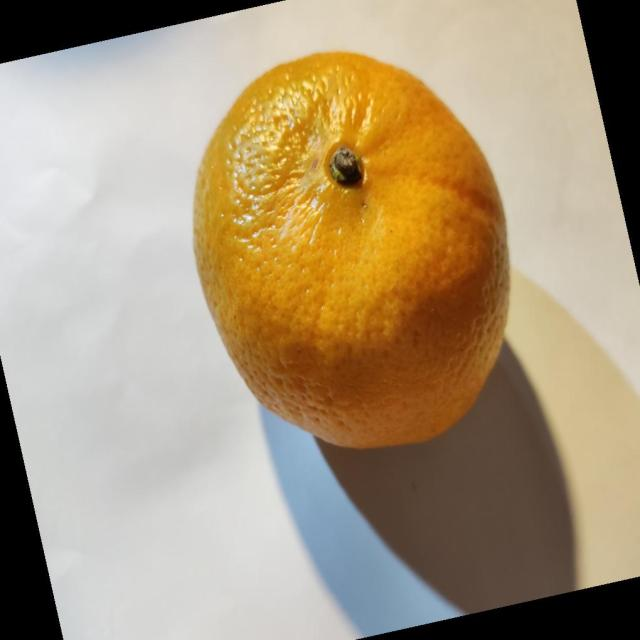fresh orange: (192, 49, 512, 450)
